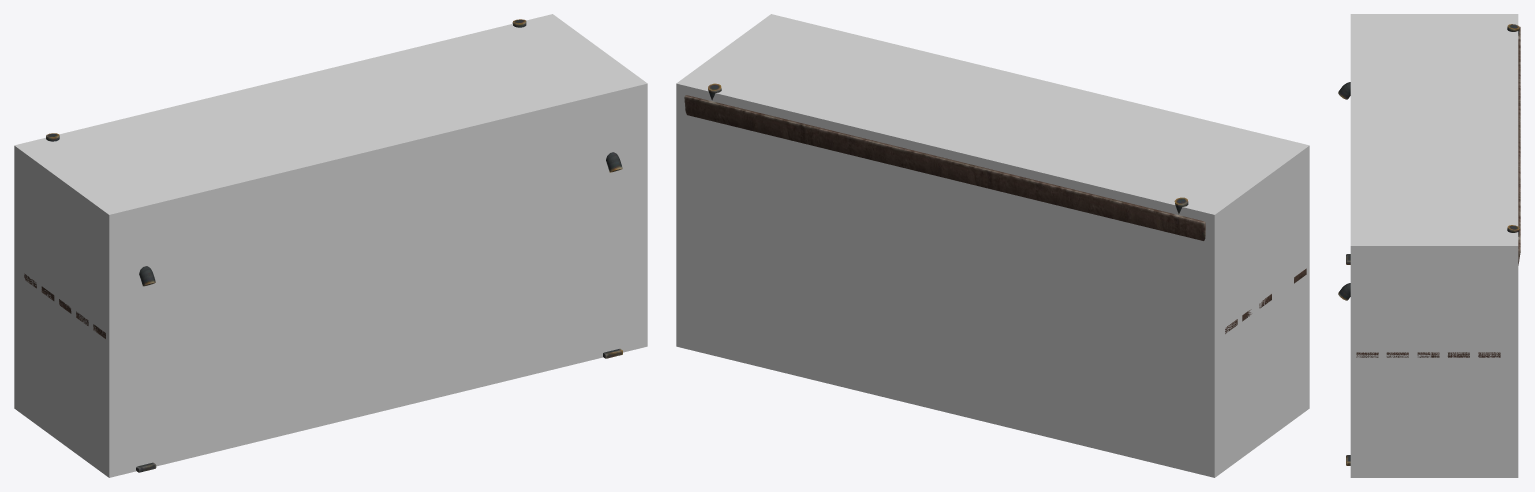
File: p3_bench.glb
3 renders of one model, left to right at view 1: azimuth 30°, elevation 25°; view 2: azimuth 150°, elevation 25°; view 3: azimuth 270°, elevation 25°, orthographic. The views are drawn at different scales.
Visible parts, largest first — view 1: p3_bench_COL, p3_bench_LOD0; view 2: p3_bench_COL, p3_bench_LOD0; view 3: p3_bench_COL, p3_bench_LOD0.
Part boxes in pixels (left/top/right/bottom): p3_bench_COL: left=14, top=14, right=647, bottom=477; p3_bench_LOD0: left=24, top=19, right=622, bottom=472; p3_bench_COL: left=676, top=14, right=1309, bottom=477; p3_bench_LOD0: left=684, top=83, right=1306, bottom=333; p3_bench_COL: left=1350, top=14, right=1518, bottom=477; p3_bench_LOD0: left=1338, top=24, right=1520, bottom=465.
Size of what is drawn, in the model's own units: 1.8 by 0.8537 by 0.5988.
Materials: 1 (1 with a texture image).
